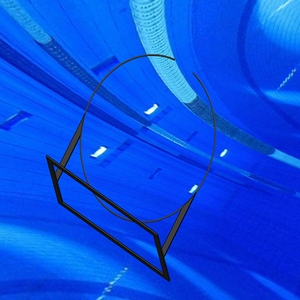circle: (45, 54, 218, 284)
